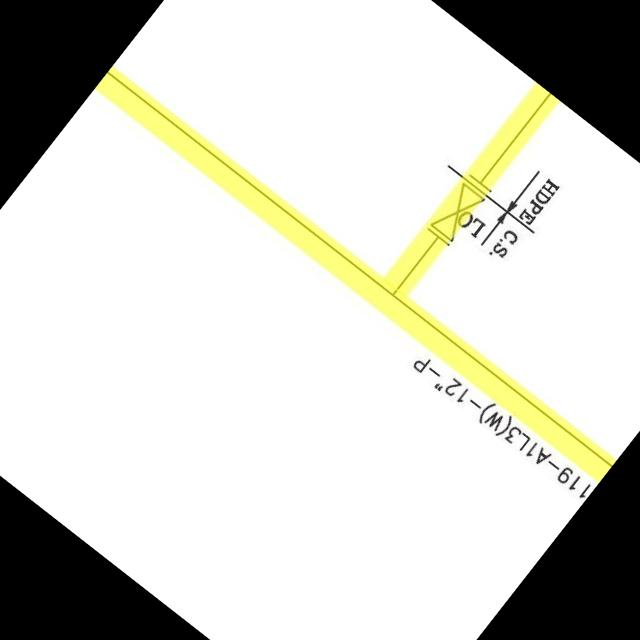GV: (418, 168, 496, 254)
